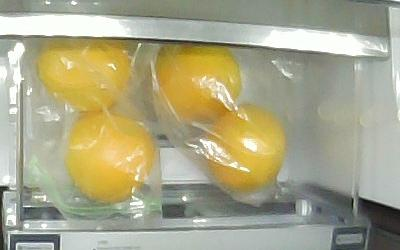grapefruit_vinyl: (66, 113, 154, 202), (150, 44, 242, 123), (205, 103, 286, 192), (37, 39, 130, 111)
